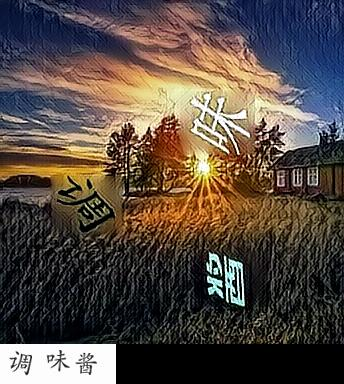character: (187, 89, 255, 158), (54, 174, 117, 236), (200, 249, 250, 311)
